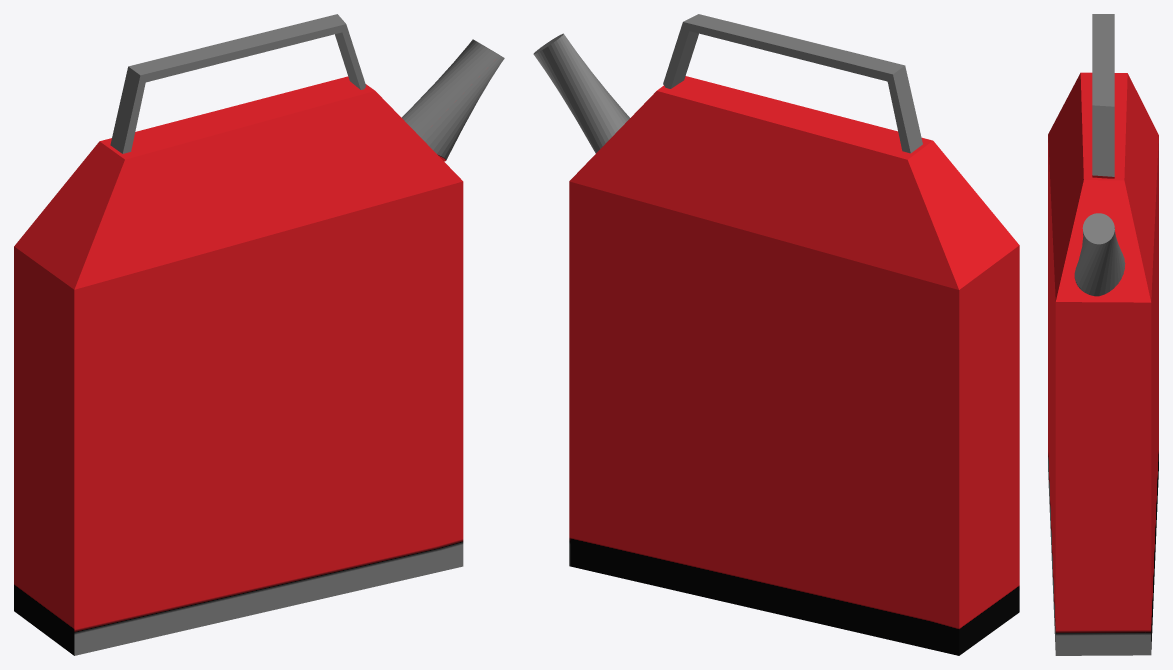
Rendered from jerryCan.fbx.
The picture shows the model from 3 angles, left to right: view 1: azimuth 30°, elevation 25°; view 2: azimuth 150°, elevation 25°; view 3: azimuth 270°, elevation 25°; orthographic projection. The views are drawn at different scales.
Parts seen in each view (by area): view 1: Cube; view 2: Cube; view 3: Cube.
Boxes of the visible parts, x1=… form: Cube: x1=14, y1=14, x2=504, y2=655; Cube: x1=533, y1=14, x2=1019, y2=655; Cube: x1=1048, y1=14, x2=1158, y2=655.
Size of the model in its own units: 231 by 268 by 53.09.
